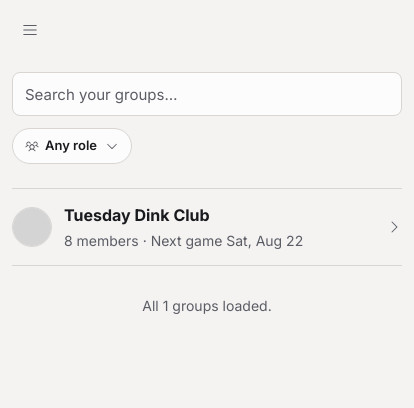
Test case: GroupCollection › keeps mobile view selection behind one compact menu
Step 1. Click the button named "Change group view, currently List" → (30, 30), box [12,12,48,48]
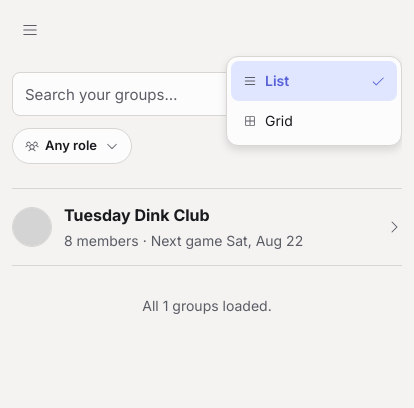
Step 2. Click the menu item "Grid" → (314, 121), box [231,101,397,141]
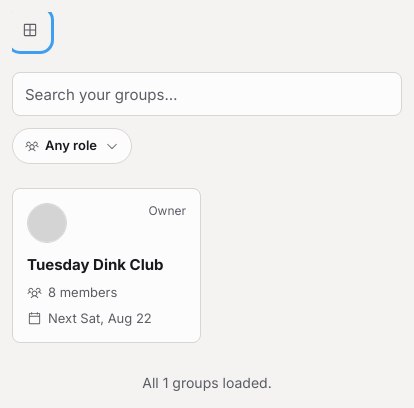
Check: the element with test id "groups-grid" is shown, box [12,188,201,343]
